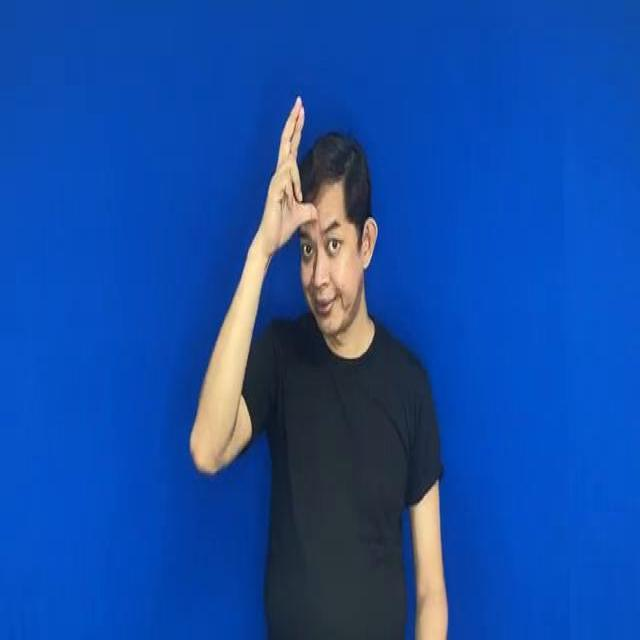chicken: (269, 86, 322, 237)
